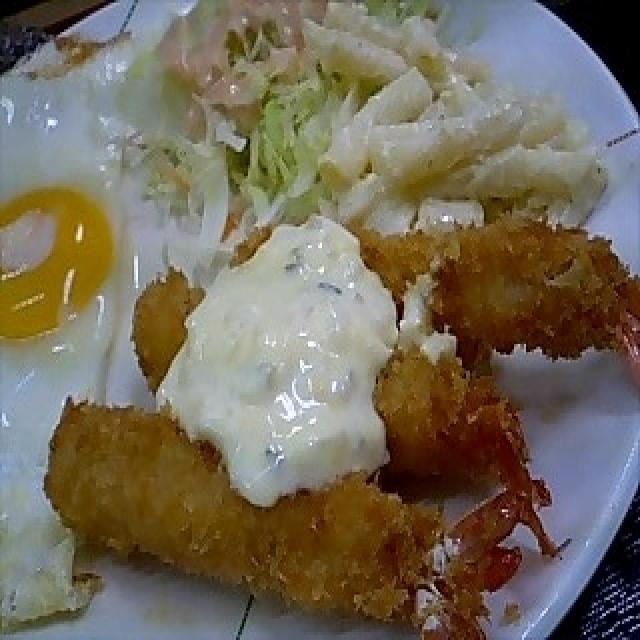炸货点心: (28, 186, 640, 640)
熟制海鲜: (28, 186, 640, 640)
